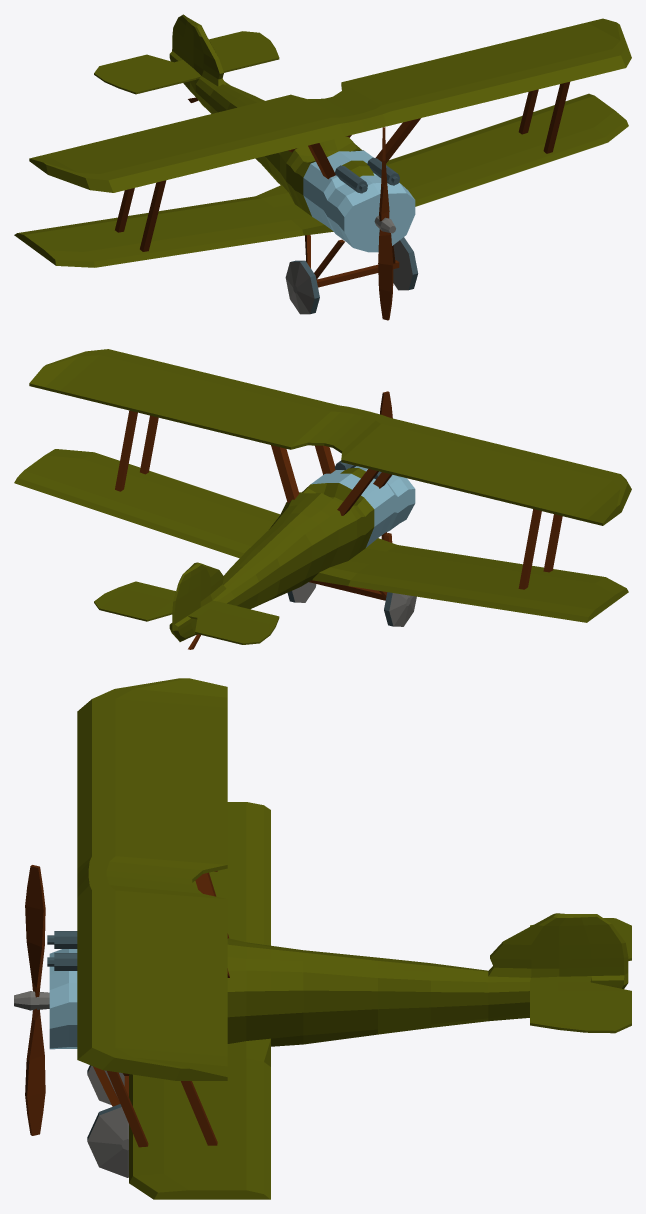
Rendered from sopwith.fbx.
The picture shows the model from 3 angles, top to bottom: view 1: azimuth 30°, elevation 25°; view 2: azimuth 150°, elevation 25°; view 3: azimuth 270°, elevation 25°; orthographic projection. The views are drawn at different scales.
Parts seen in each view (by area): view 1: AircraftBody, Cube.001, Cylinder.002, Cube.003, Plane.001, Cube.005, Cube, Cylinder.001, Cube.004, Plane; view 2: AircraftBody, Cube.001, Cube.004, Cube.002, Cylinder.002, Cube.003, Cube, Cube.005; view 3: AircraftBody, Cube.001, Cylinder.002, Plane, Plane.001, Cylinder.001, Cube.003, Cube.004.
Boxes of the visible parts, x1,y1,x2,y2 form: AircraftBody: (14, 14, 628, 267); Cube.001: (29, 18, 631, 192); Cylinder.002: (285, 237, 418, 314); Cube.003: (140, 82, 569, 251); Plane.001: (378, 229, 393, 320); Cube.005: (305, 234, 399, 287); Cube: (308, 118, 420, 179); Cylinder.001: (335, 157, 399, 193); Cube.004: (115, 89, 538, 232); Plane: (379, 127, 389, 221); AircraftBody: (14, 449, 628, 644); Cube.001: (29, 349, 631, 525); Cube.004: (115, 410, 541, 589); Cube.002: (271, 445, 378, 515); Cylinder.002: (287, 582, 416, 626); Cube.003: (140, 415, 562, 572); Cube: (315, 445, 392, 488); Cube.005: (309, 533, 392, 600); AircraftBody: (49, 802, 631, 1199); Cube.001: (77, 678, 227, 1080); Cylinder.002: (87, 1065, 128, 1177); Plane: (25, 865, 45, 997); Plane.001: (25, 1008, 45, 1135); Cylinder.001: (47, 931, 77, 970); Cube.003: (107, 1071, 148, 1147); Cube.004: (181, 871, 217, 1145).
Size of the model in its own units: 720 by 237 by 482.
